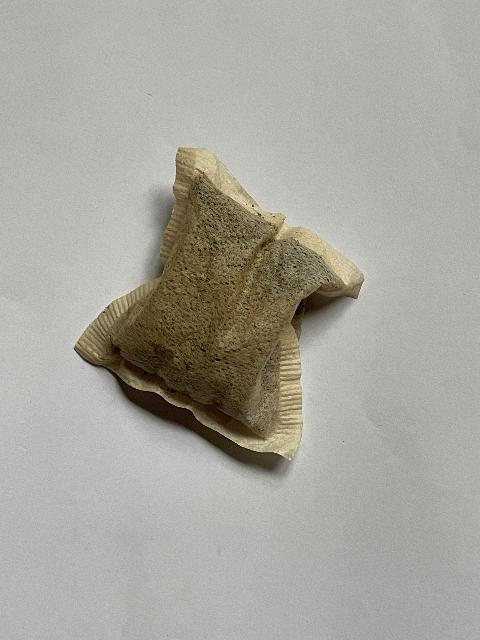teabag: (72, 144, 366, 463)
